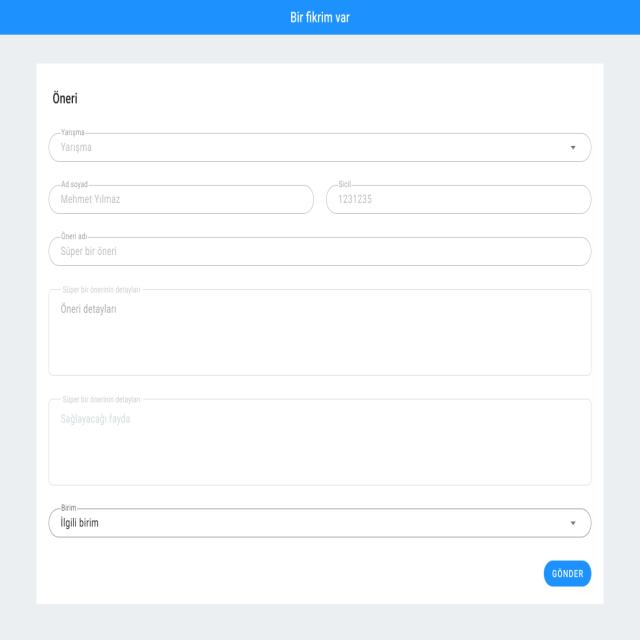QLabel: (288, 8, 351, 26), (48, 86, 80, 107), (550, 568, 584, 581)
VAppBar: (0, 0, 640, 35)
VBtn: (544, 559, 592, 588)
VCard: (36, 61, 604, 606)
VCombobox: (49, 128, 591, 164), (50, 504, 592, 539)
VTextField: (49, 232, 591, 268), (48, 180, 314, 214), (326, 180, 591, 214)
VTextarea: (47, 285, 592, 378), (47, 395, 592, 488)
